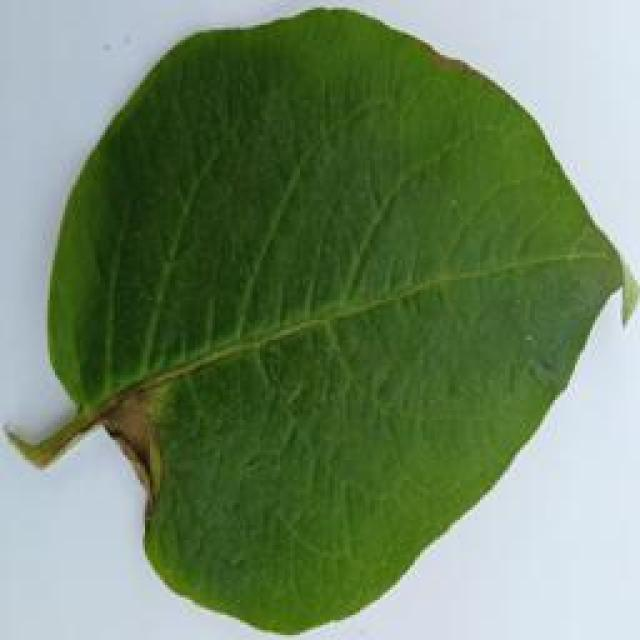Potato_Late_Blight: (10, 8, 629, 634)
